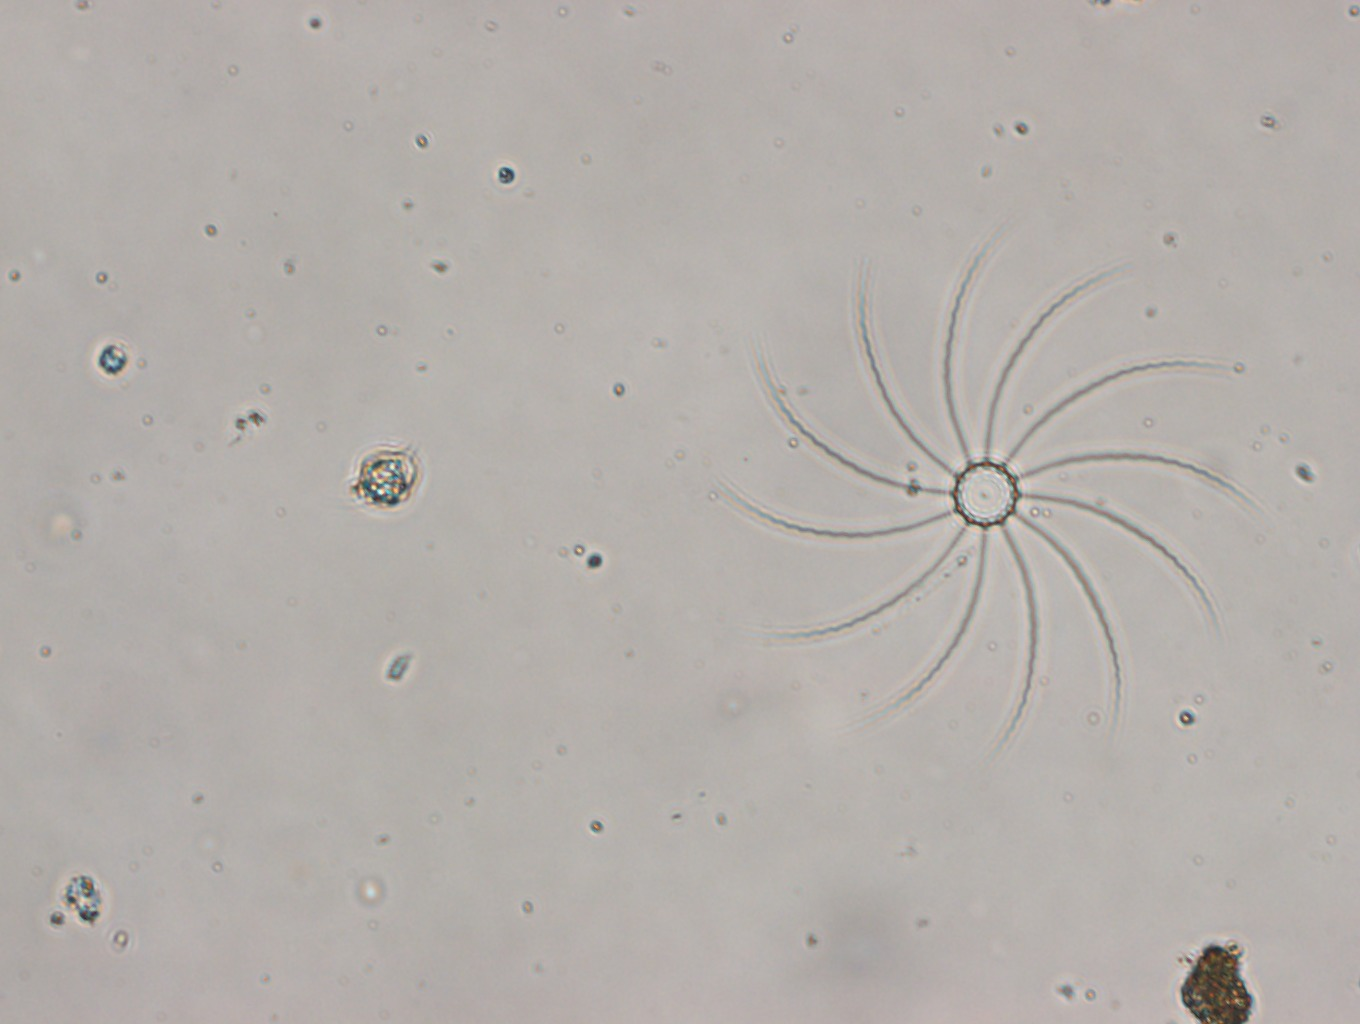bacteriastrum: (747, 248, 1251, 728)
